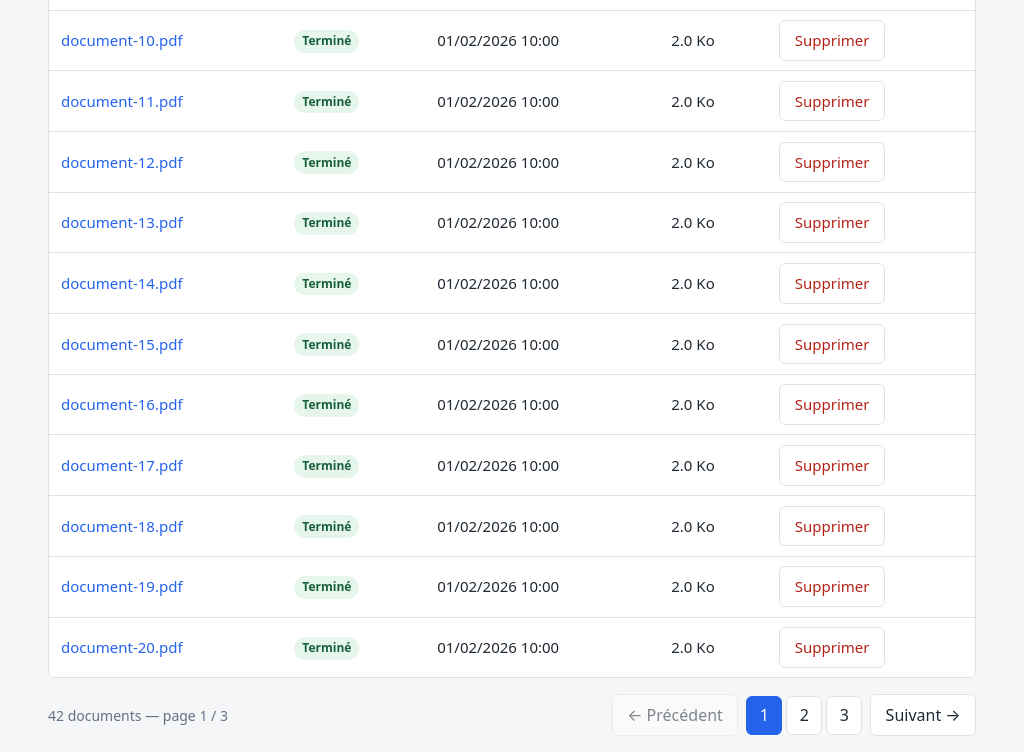
it: Pagination de la liste des documents › desactive Suivant sur la derniere page
(page scrolled)
Step 1. Click the button "3" → (844, 716), box [826,696,862,735]
(page scrolled)
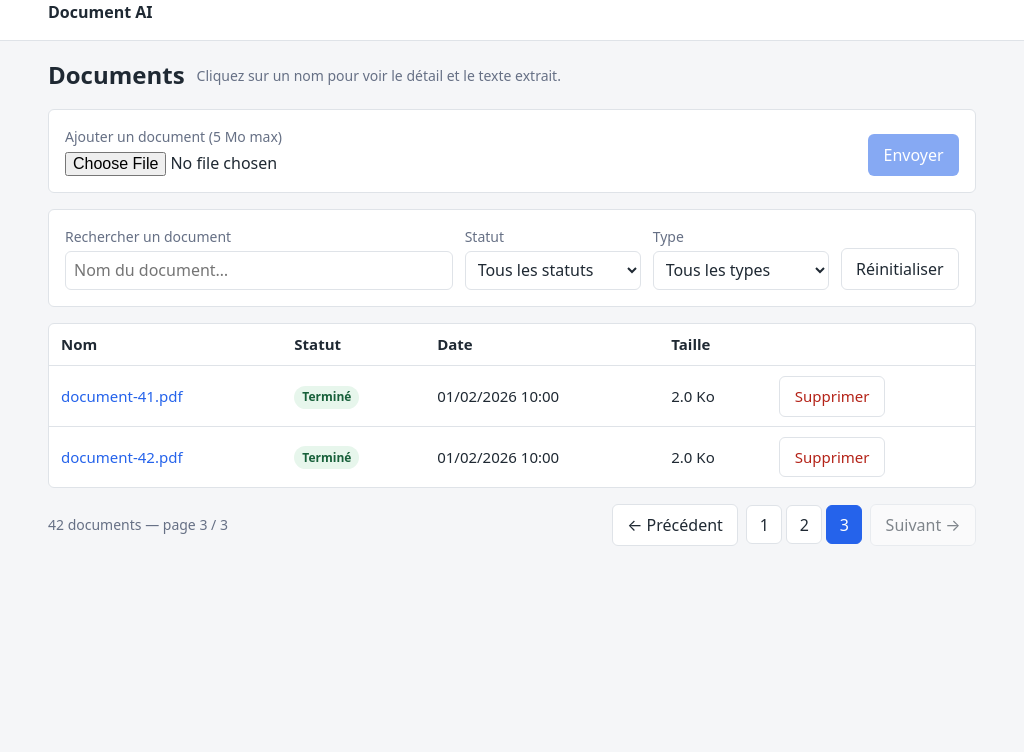
expect the text "42 documents — page 3 / 3" is shown: met, box [48,514,228,535]
expect the text "document-42.pdf" is shown: met, box [49,427,282,487]
expect the button "Suivant →" is disabled: met, box [870,504,976,546]
